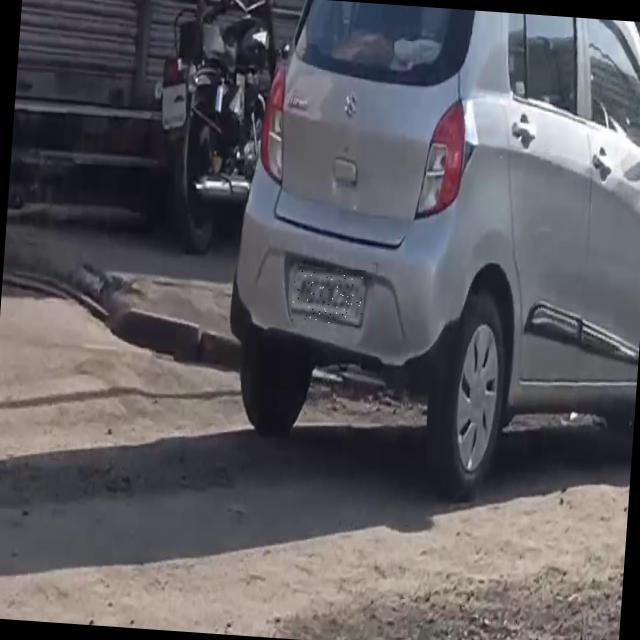Plate: (291, 266, 367, 326)
